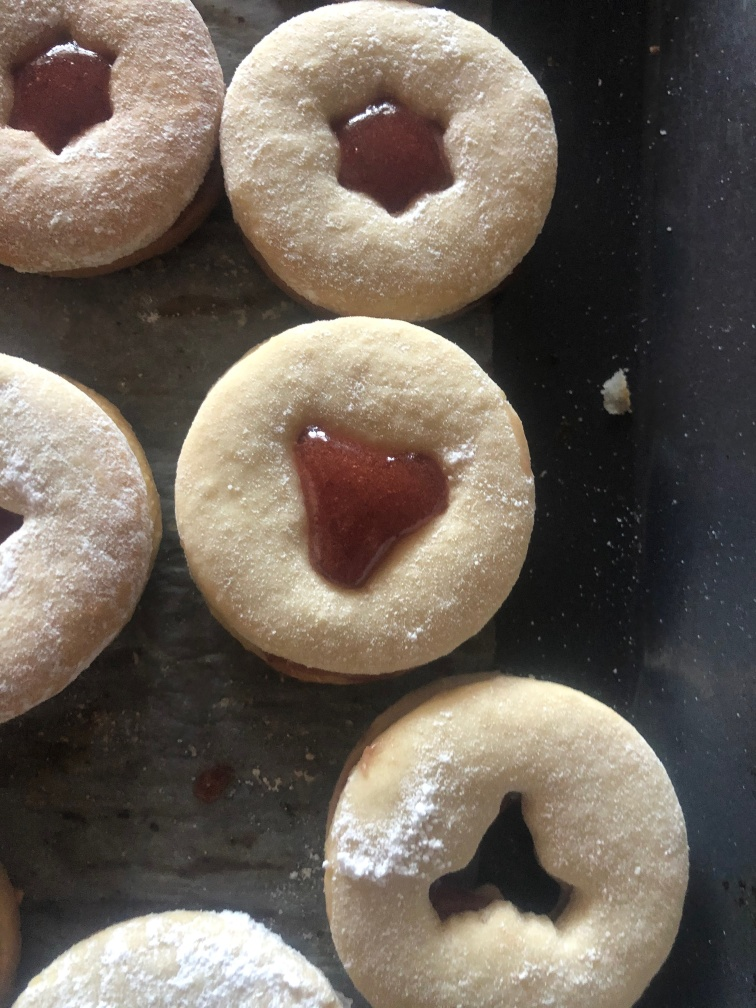christmas shortbread with jam: (177, 315, 536, 693), (328, 676, 690, 1005), (223, 1, 556, 320), (1, 1, 209, 279)
